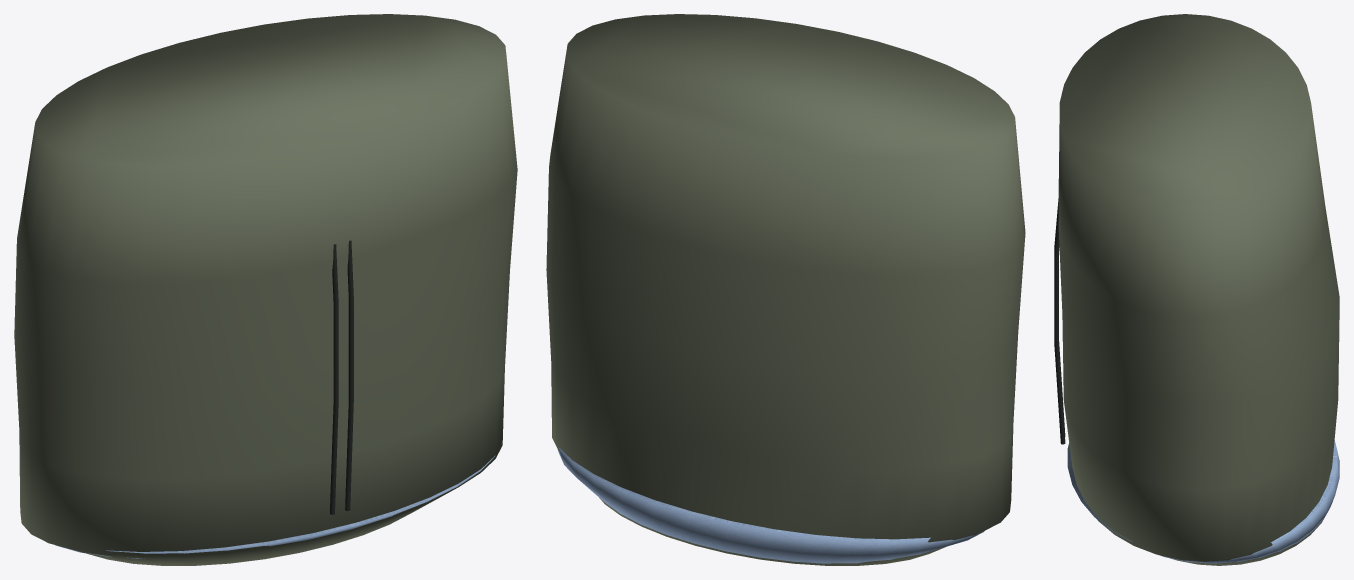
Rendered from player-torso.glb.
3 views of the same model, side by side, from view 1: azimuth 30°, elevation 25°; view 2: azimuth 150°, elevation 25°; view 3: azimuth 270°, elevation 25° (orthographic). The views are drawn at different scales.
Visible parts, largest first — view 1: player-torso; view 2: player-torso; view 3: player-torso.
Part boxes in pixels (bbox=[...]): player-torso: bbox=[14, 14, 517, 565]; player-torso: bbox=[546, 14, 1025, 565]; player-torso: bbox=[1054, 14, 1339, 565].
Bounding box in the file's own units: 0.376 × 0.32 × 0.2193.
Materials: 3 (1 with a texture image).
